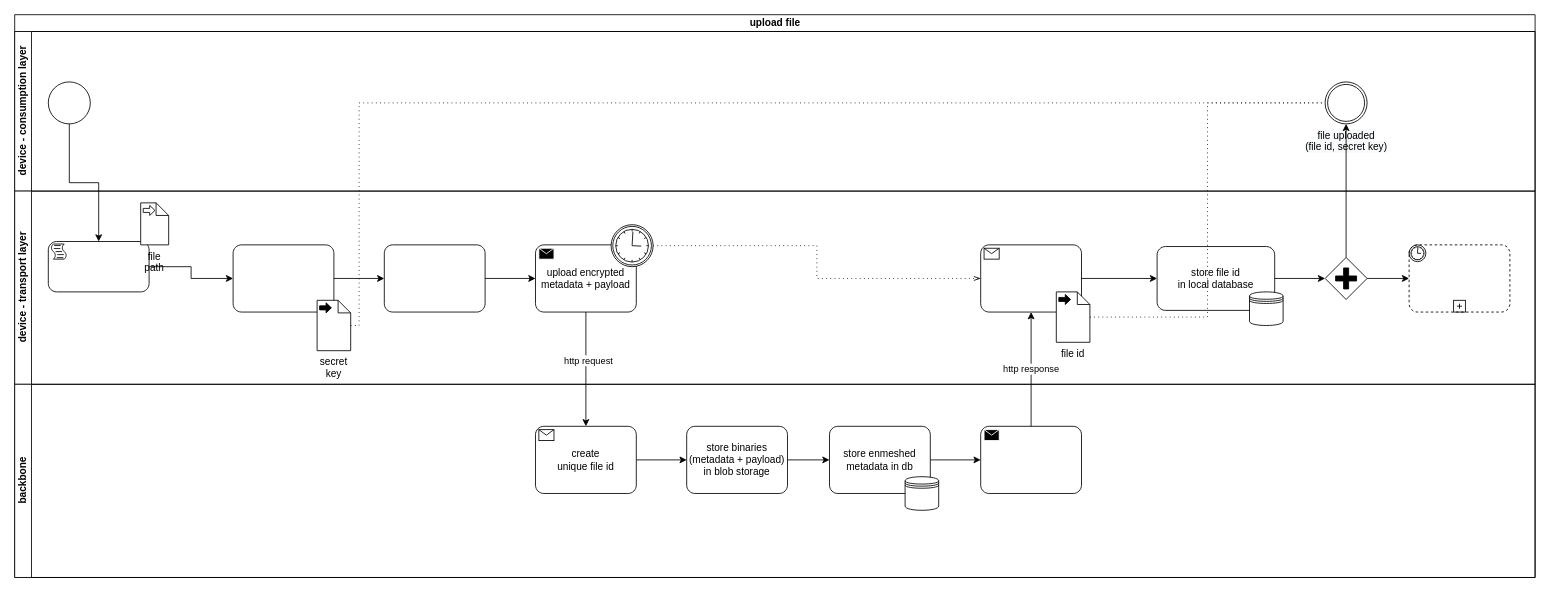
This 1550x592 diagram has some shape labels left out. The centre of each missing label's shape, as x and y in pixels:
datawallet modification: the point at 1459,278
encrypt metadata + payload: the point at 434,278
generate keys: the point at 283,278
read binary + metadata of file: the point at 98,266
receive file id: the point at 1031,278
return file id: the point at 1031,459
select file: the point at 68,102
